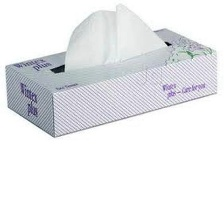book: (0, 23, 224, 141)
tissue: (52, 0, 172, 77)
